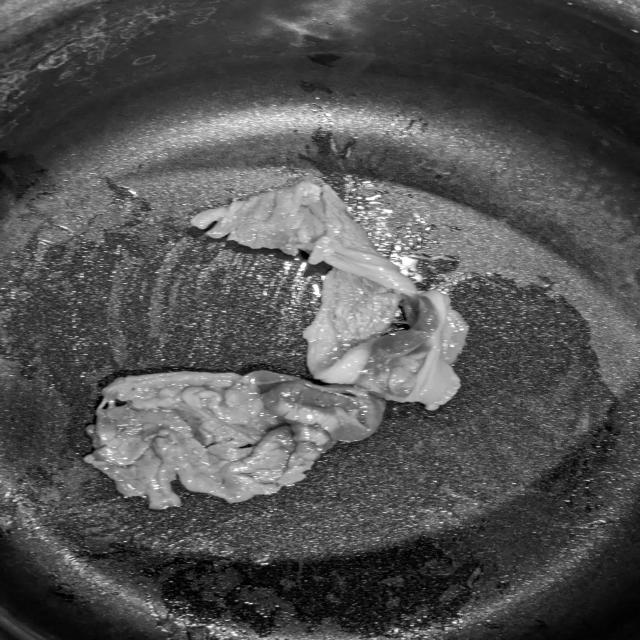NG undercooked beef,: (174, 169, 488, 423), (71, 367, 416, 523)
